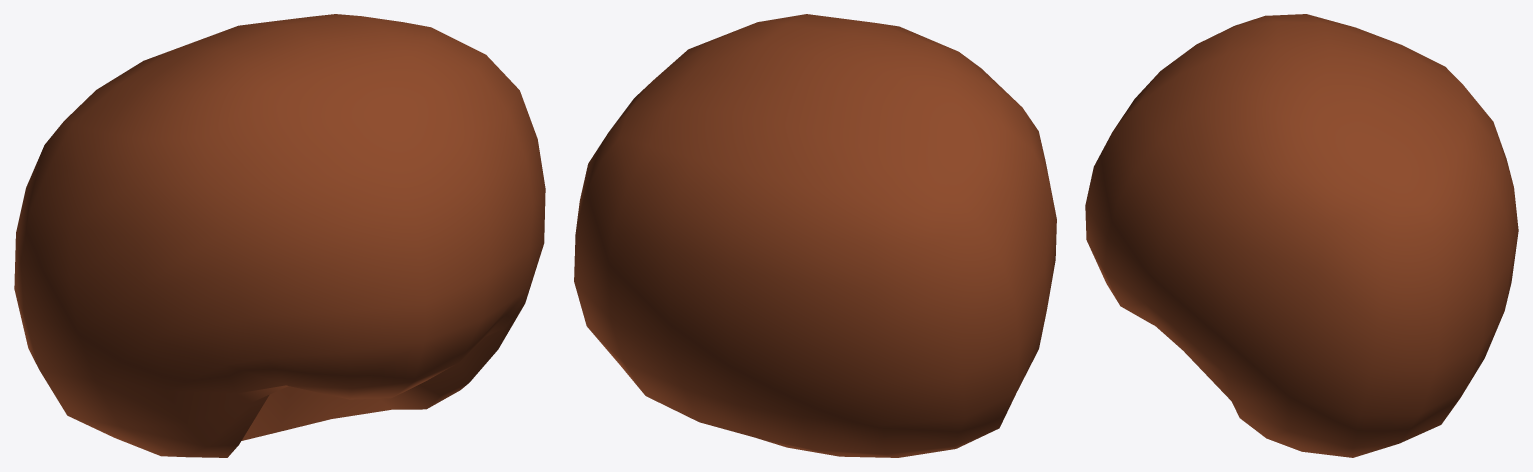
File: Disco_Hairs_02.fbx
3 views of the same model, side by side, from view 1: azimuth 30°, elevation 25°; view 2: azimuth 150°, elevation 25°; view 3: azimuth 270°, elevation 25° (orthographic). The views are drawn at different scales.
Parts seen in each view (by area): view 1: Disco_Hairs_02; view 2: Disco_Hairs_02; view 3: Disco_Hairs_02.
Boxes of the visible parts, x1,y1,x2,y2 form: Disco_Hairs_02: [14, 14, 545, 457]; Disco_Hairs_02: [574, 14, 1056, 457]; Disco_Hairs_02: [1085, 14, 1518, 457].
Bounding box in the file's own units: 117 × 96.92 × 103.
